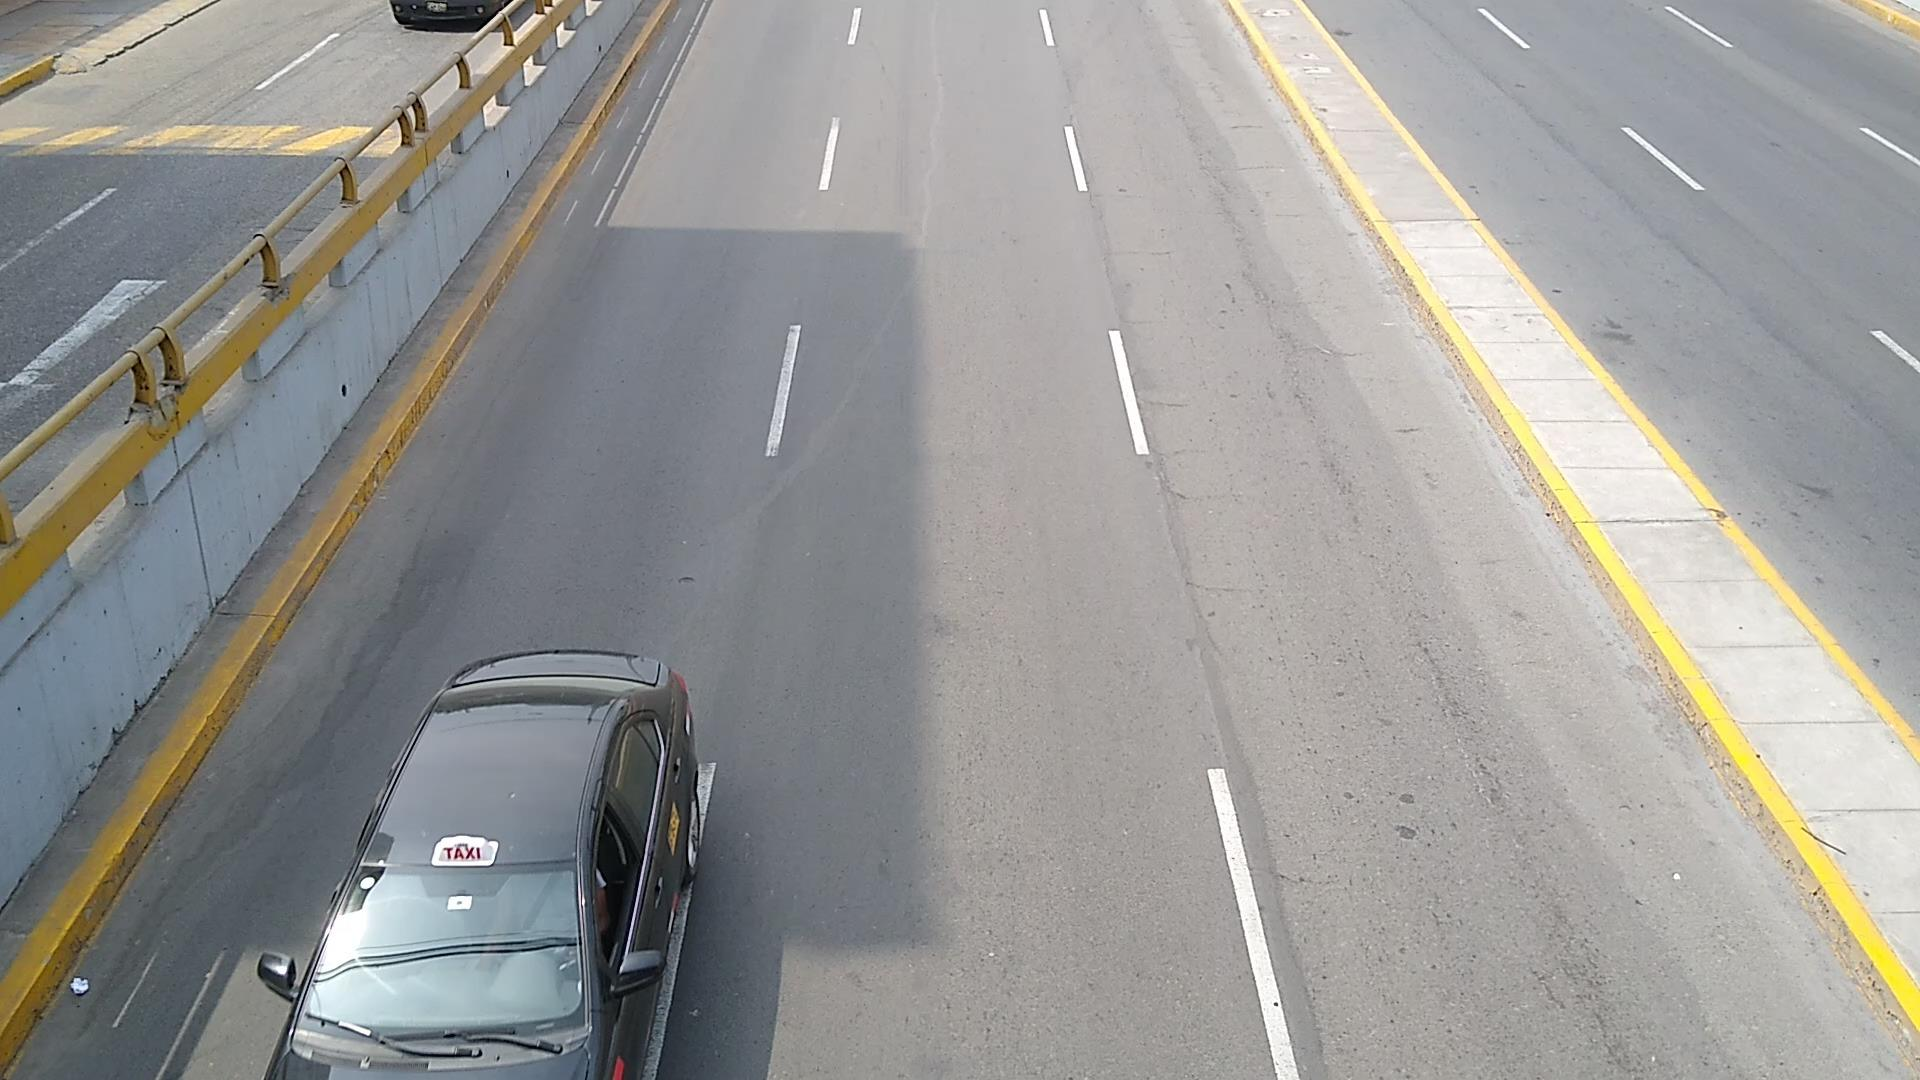car: (259, 652, 701, 1080)
